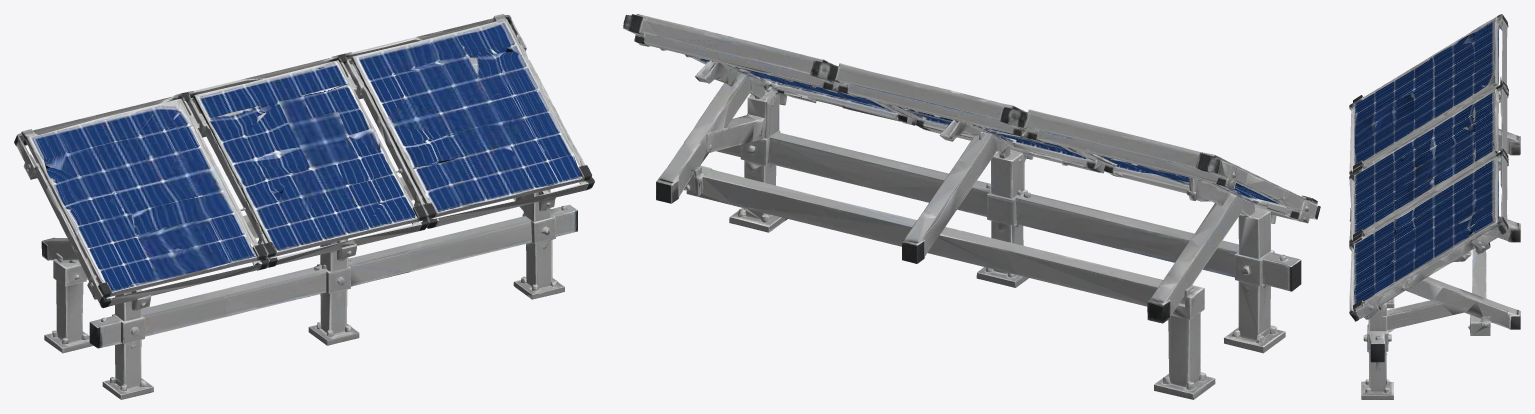
Rendered from solar_panel.glb.
The picture shows the model from 3 angles, left to right: view 1: azimuth 30°, elevation 25°; view 2: azimuth 150°, elevation 25°; view 3: azimuth 270°, elevation 25°; orthographic projection. The views are drawn at different scales.
Visible parts, largest first — view 1: output_unwrapped; view 2: output_unwrapped; view 3: output_unwrapped.
Part boxes in pixels (x1,y1,x2,y2): output_unwrapped: (14, 14, 594, 399); output_unwrapped: (623, 14, 1320, 399); output_unwrapped: (1349, 14, 1520, 399).
Size of the model in its own units: 1.9 by 0.7879 by 0.6508.
Materials: 1 (1 with a texture image).
